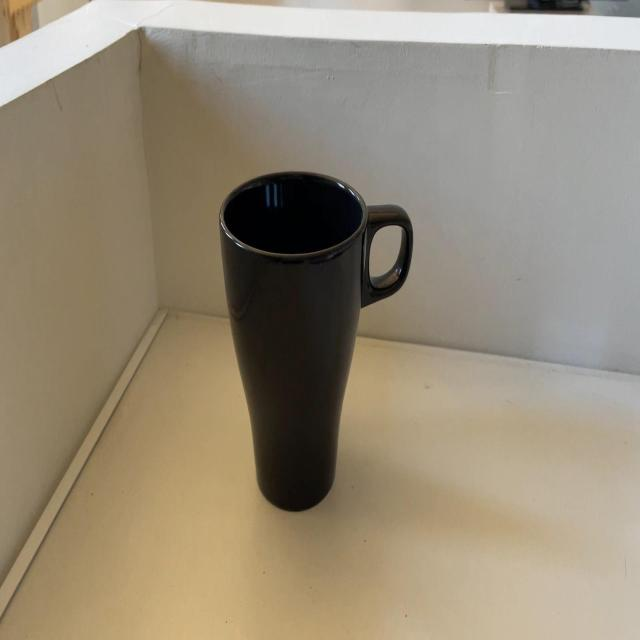cup: (209, 171, 422, 513)
